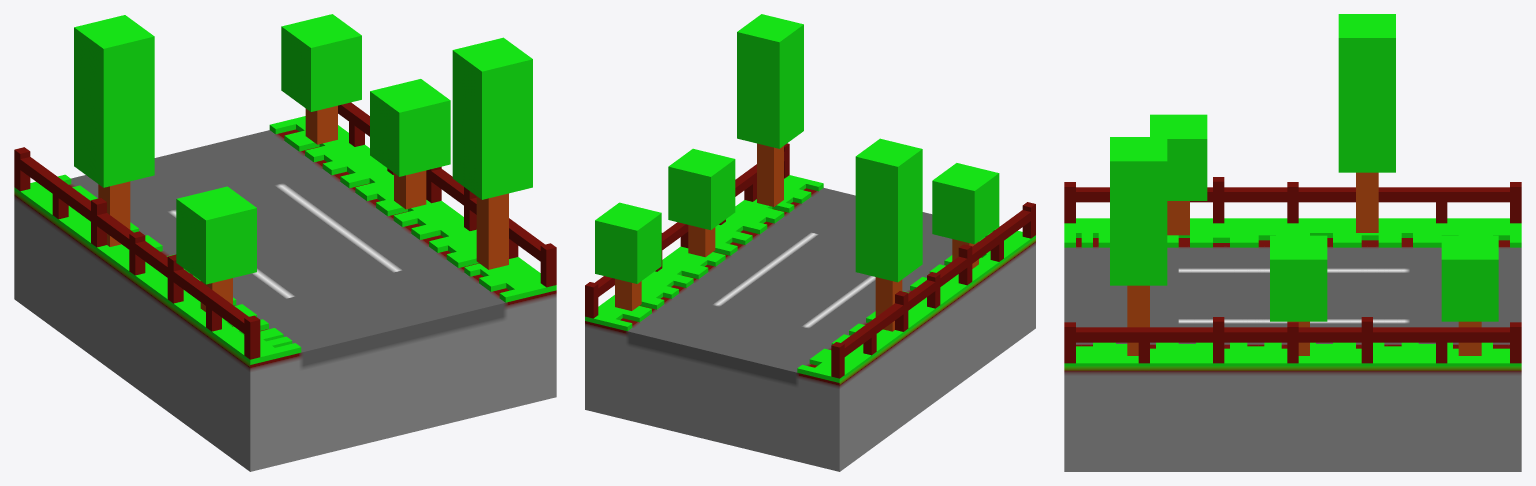
Rendered from NomalPlane.fbx.
The picture shows the model from 3 angles, left to right: view 1: azimuth 30°, elevation 25°; view 2: azimuth 150°, elevation 25°; view 3: azimuth 270°, elevation 25°; orthographic projection. The views are drawn at different scales.
Parts seen in each view (by area): view 1: NormalPlane; view 2: NormalPlane; view 3: NormalPlane.
Boxes of the visible parts, left/top/right/bottom form: NormalPlane: left=14, top=14, right=556, bottom=471; NormalPlane: left=585, top=14, right=1035, bottom=471; NormalPlane: left=1064, top=14, right=1521, bottom=471.
Bounding box in the file's own units: 61 × 60 × 80.
1 material, 1 textured.
